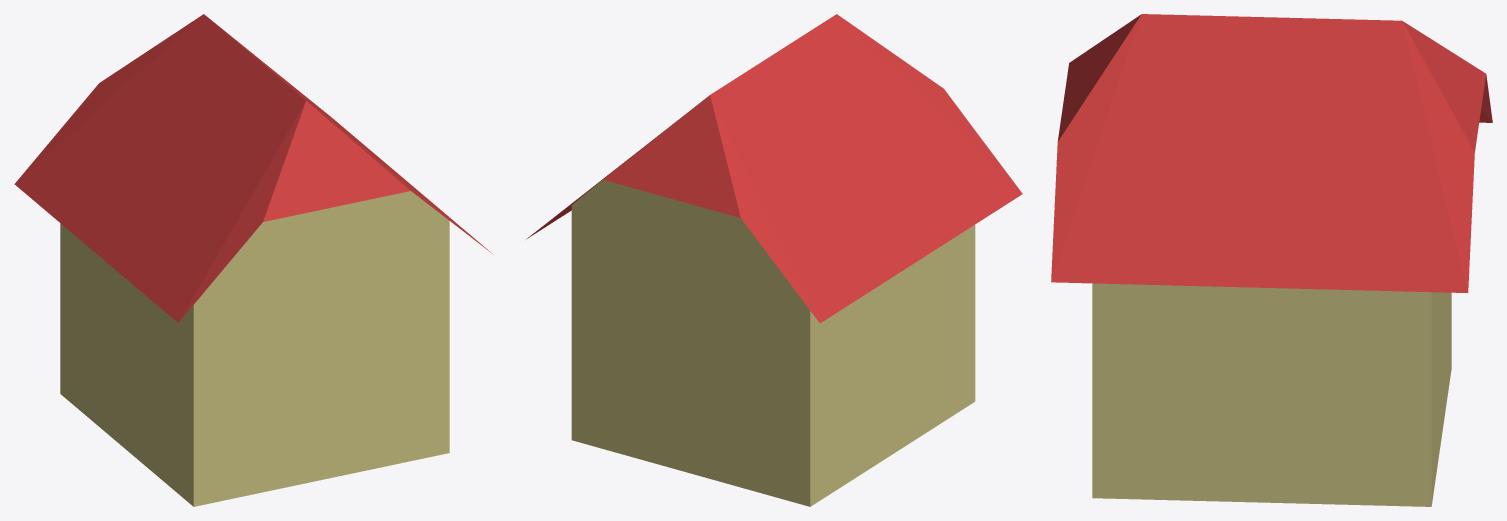
3 renders of one model, left to right at view 1: azimuth 30°, elevation 25°; view 2: azimuth 150°, elevation 25°; view 3: azimuth 270°, elevation 25°, orthographic. The views are drawn at different scales.
Parts seen in each view (by area): view 1: group_5, group_3, group_4; view 2: group_5, group_3, group_4; view 3: group_3, group_5, group_4.
Part boxes in pixels (box(x1,y1,x2,y2)): group_5: box(60, 191, 449, 506); group_3: box(14, 14, 492, 310); group_4: box(15, 49, 489, 322); group_5: box(571, 179, 975, 506); group_3: box(527, 14, 974, 323); group_4: box(527, 52, 1022, 322); group_3: box(1051, 14, 1492, 292); group_5: box(1092, 283, 1451, 506); group_4: box(1051, 39, 1492, 292).
Bounding box in the file's own units: 10.96 × 11.31 × 11.77.
